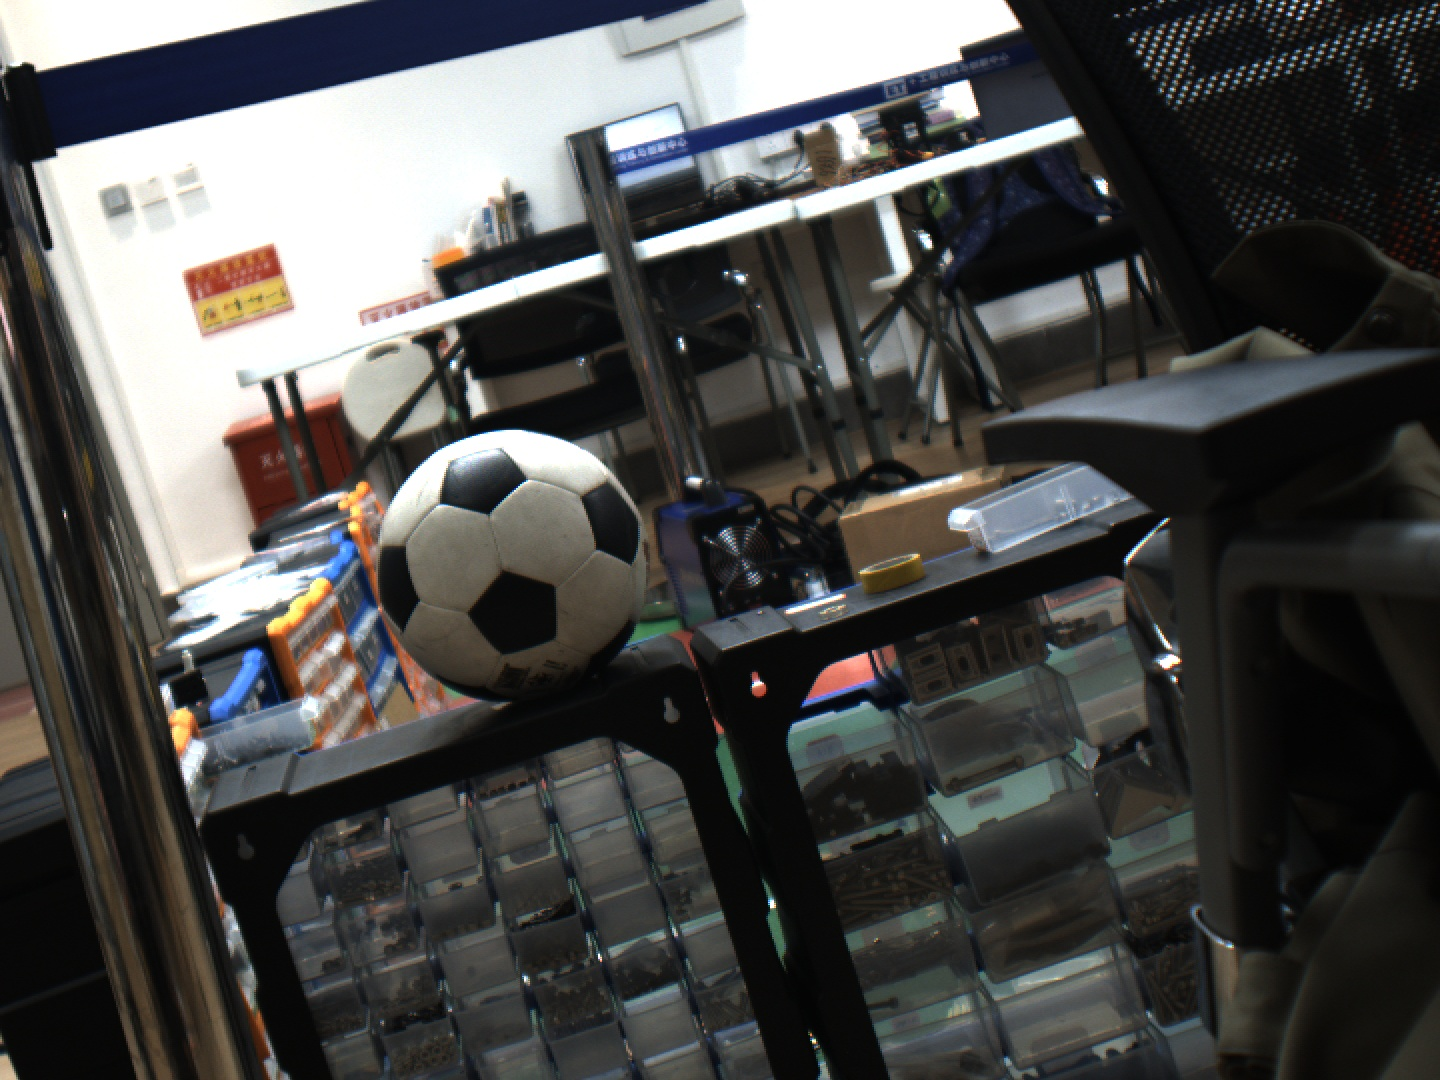ball: (376, 430, 650, 707)
